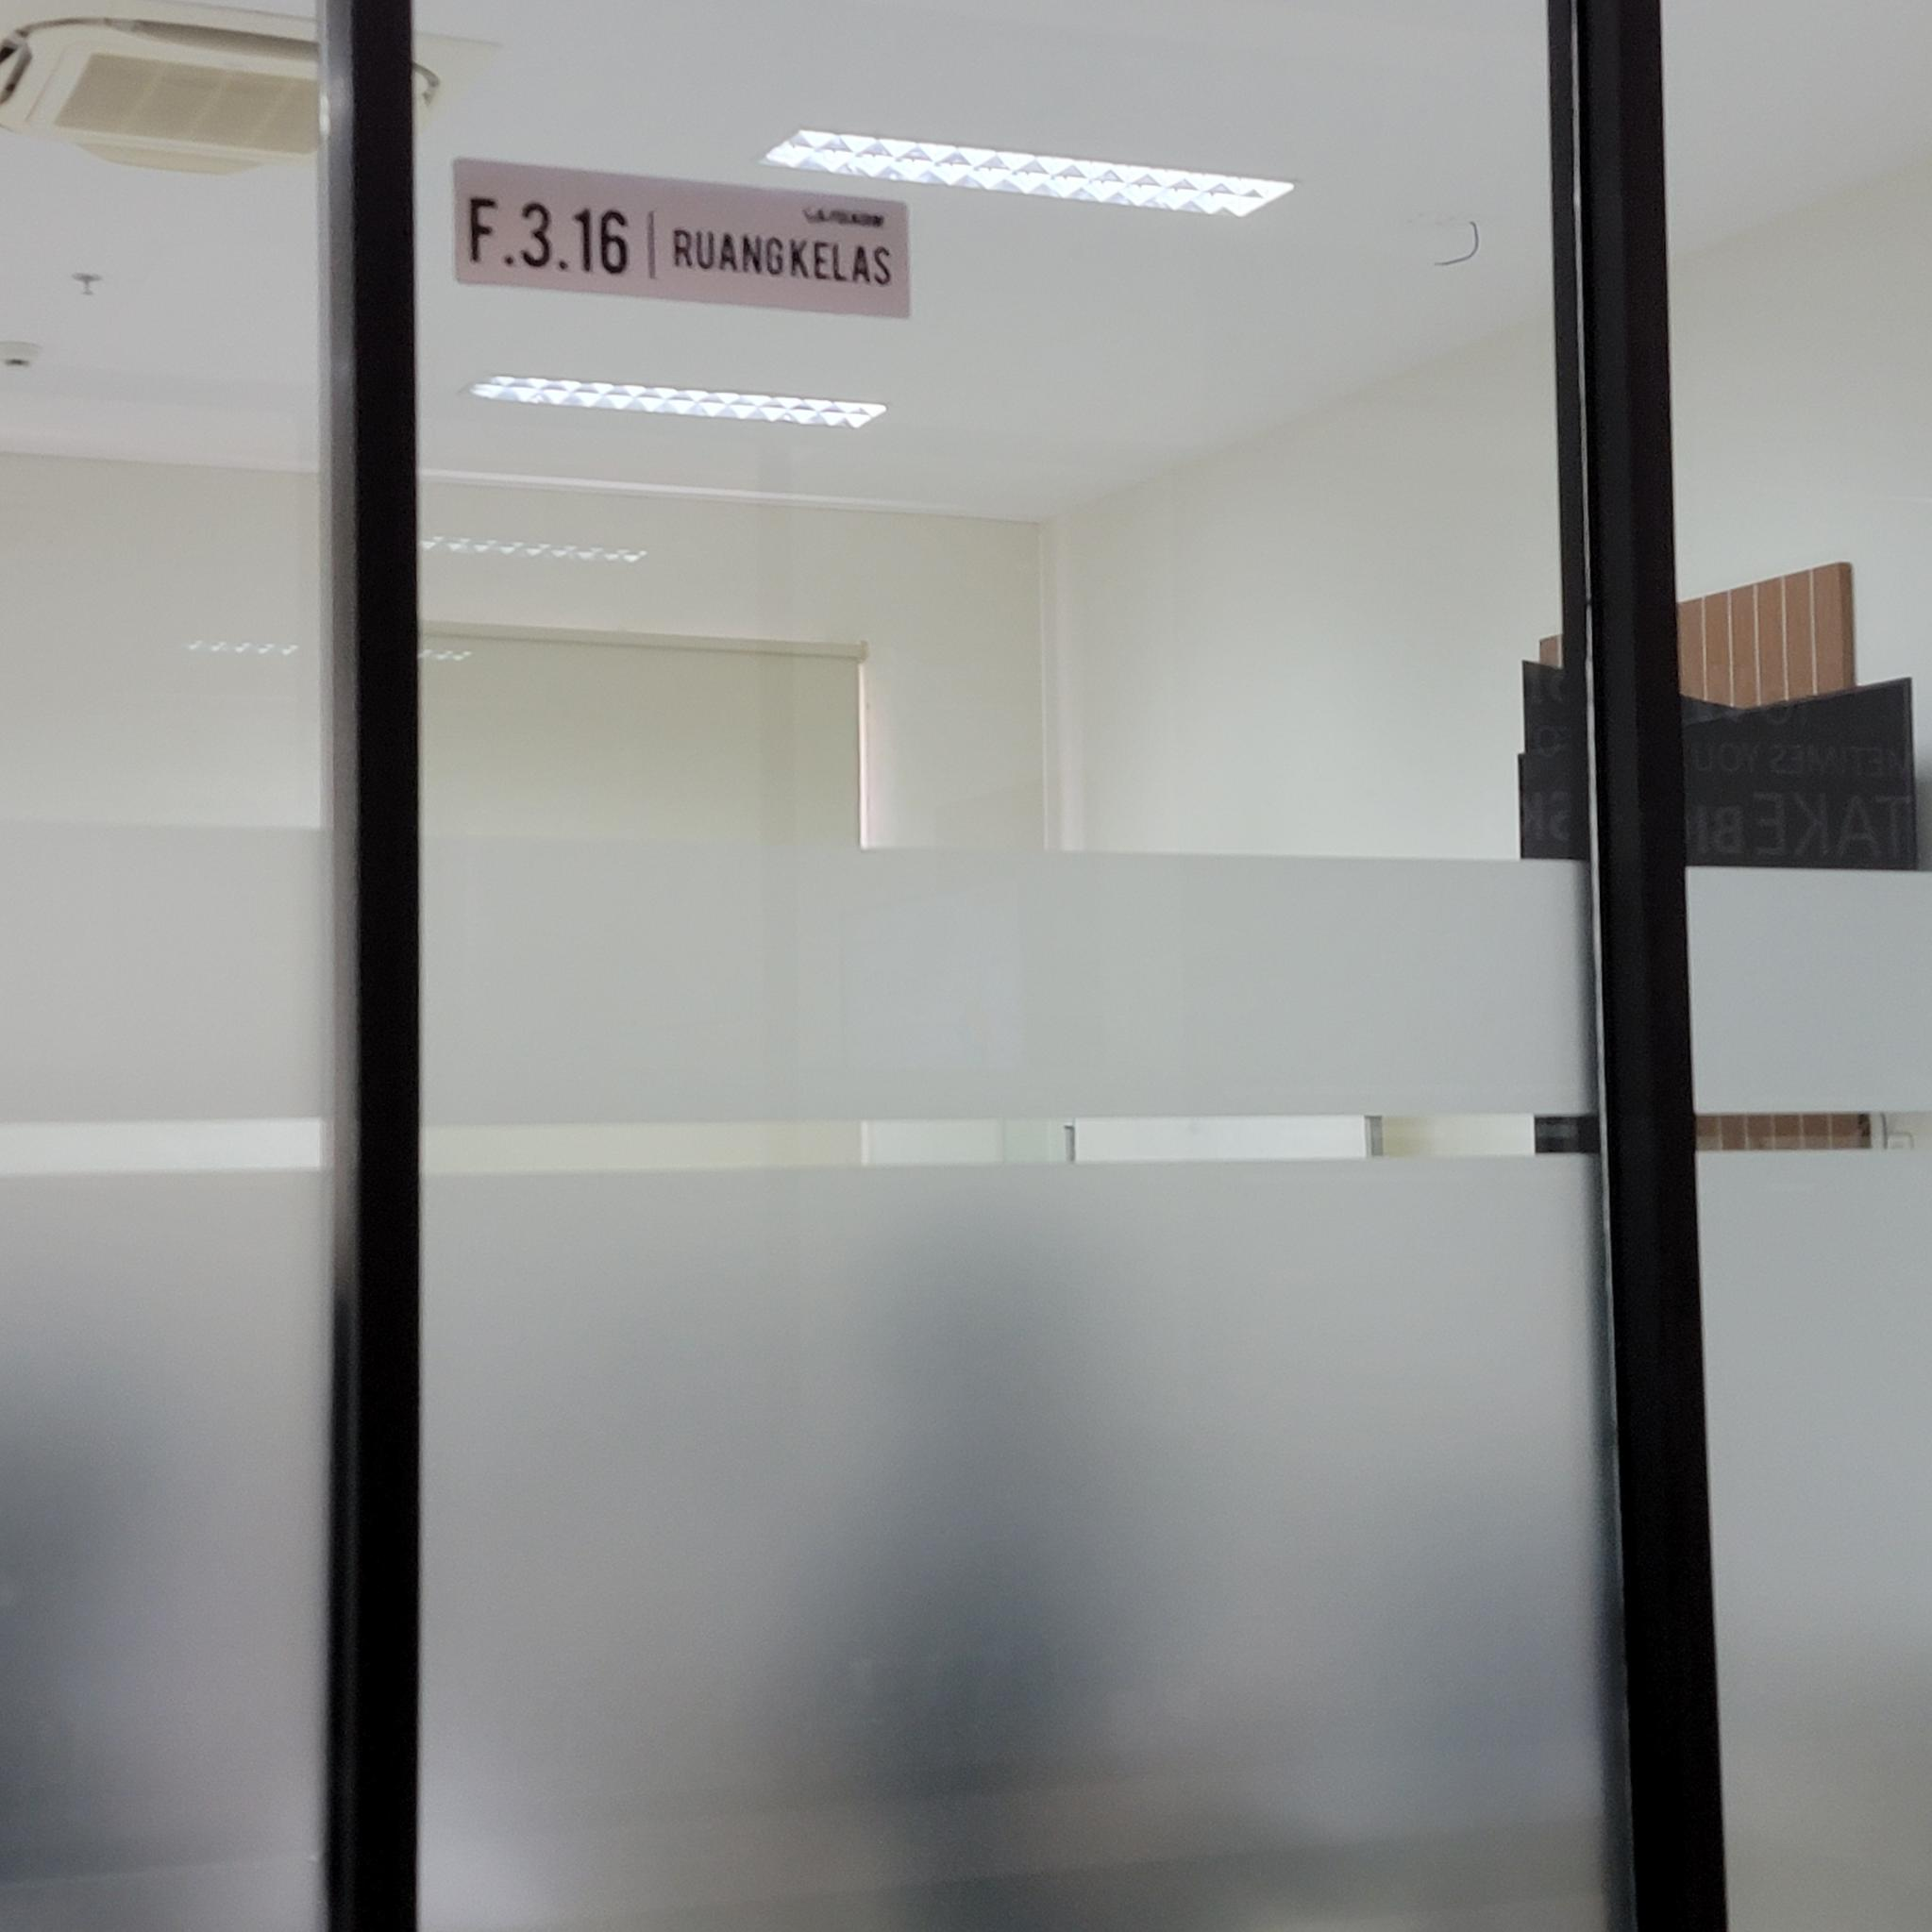plate: (451, 157, 911, 320)
